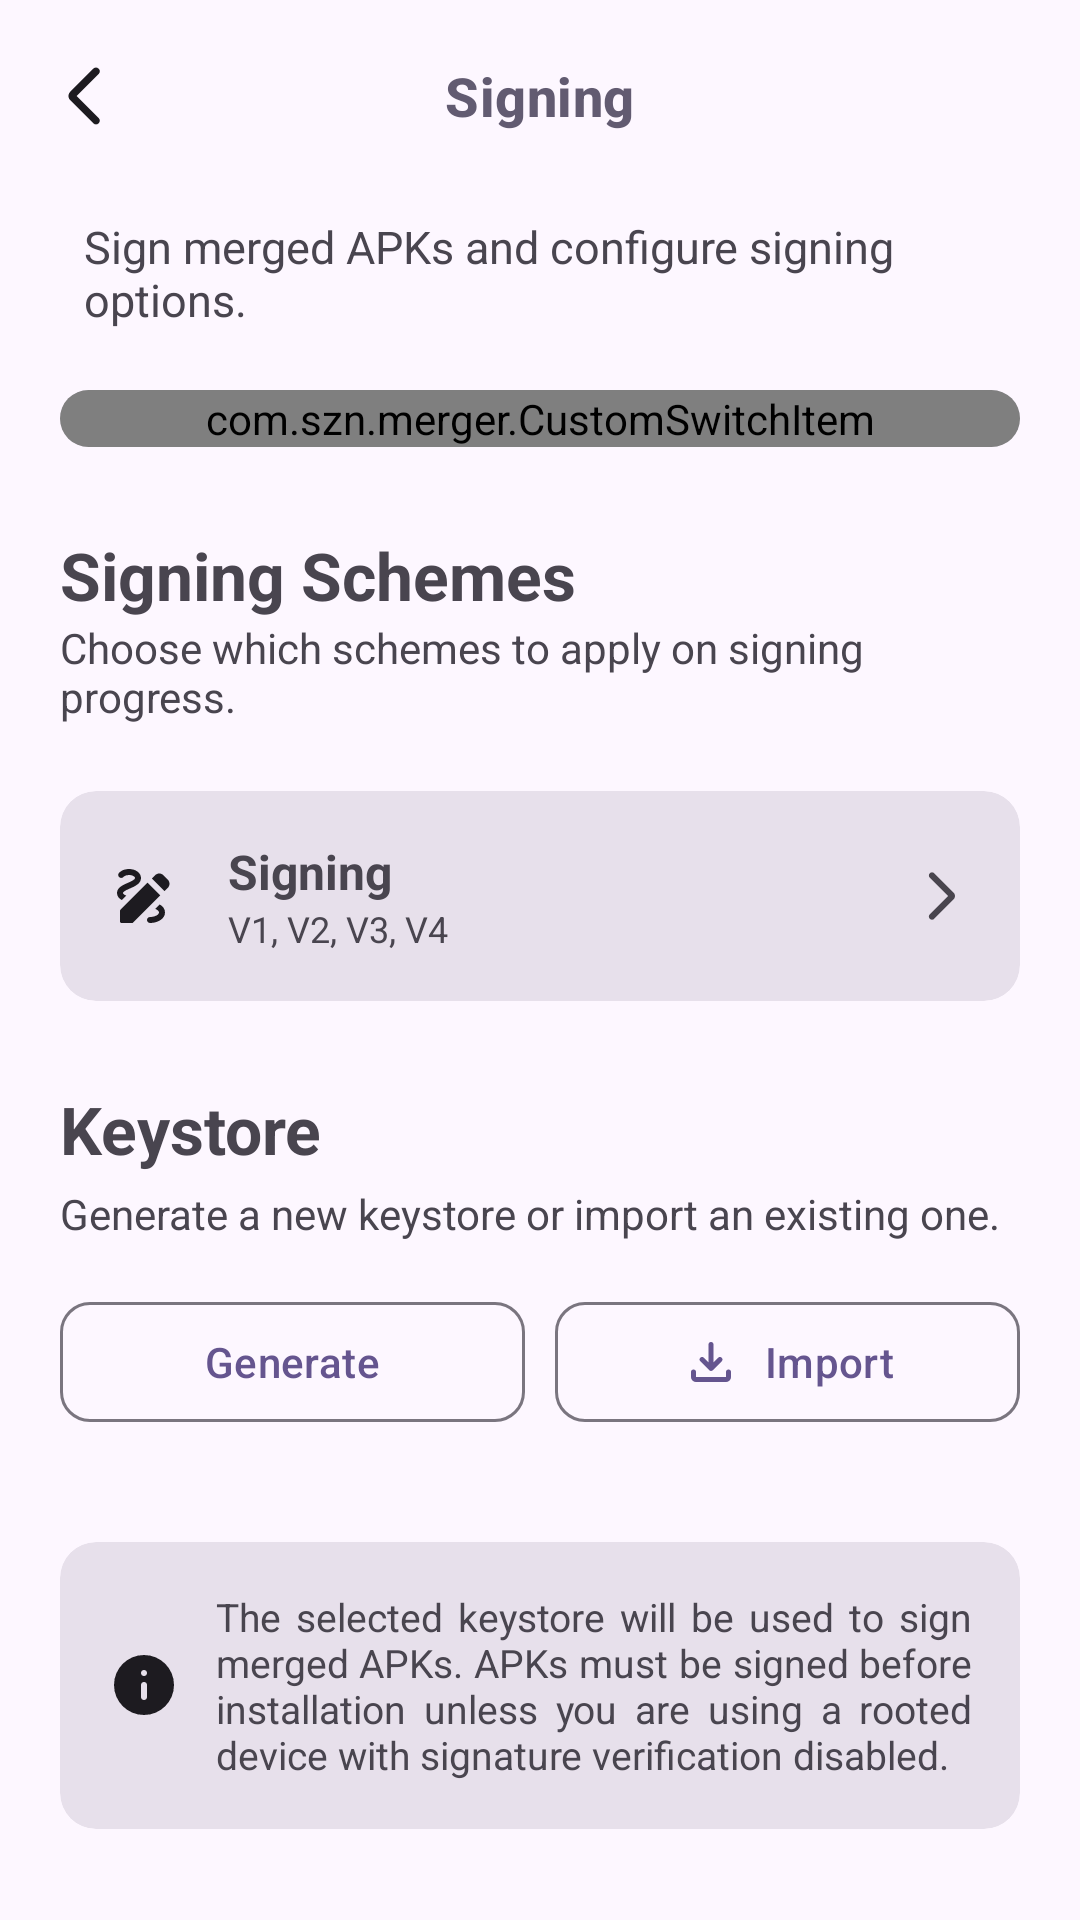

Where to tap for icons on this 1080*1920 app screen, as [x,y]:
info: [144,1685]
